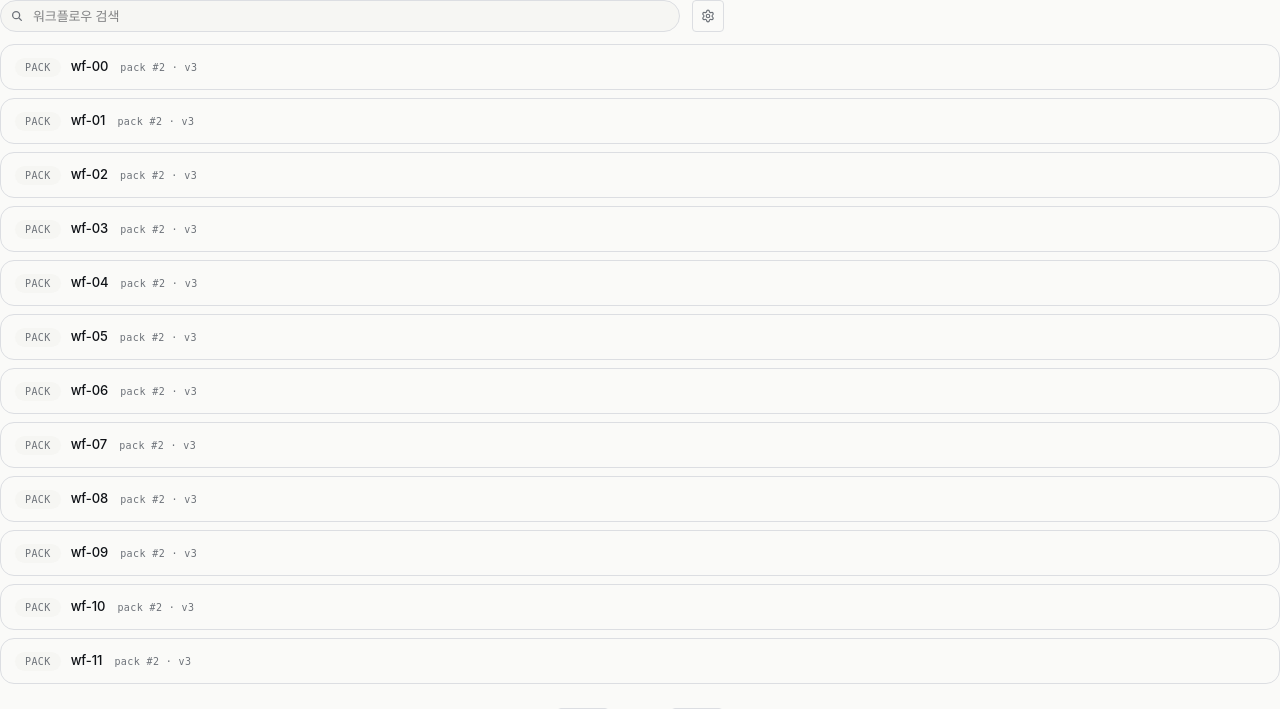
Test: WorkflowListView › page size 6 으로 변경 시 즉시 카드 수와 pagination 갱신
The image size is (1280, 709).
Click the button with test id "wl-settings-toggle".
click(708, 16)  # box [692,0,724,32]
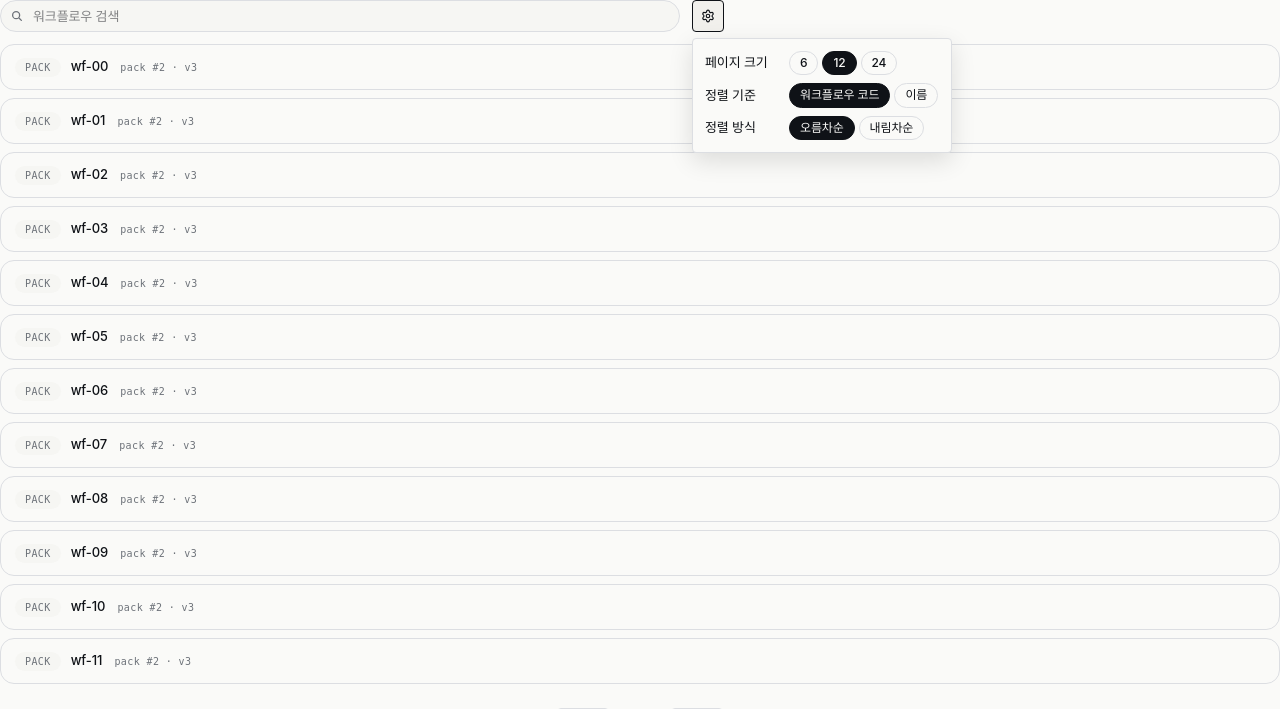
Click the button with test id "wl-settings-pageSize-6".
click(804, 63)  # box [789,51,818,75]
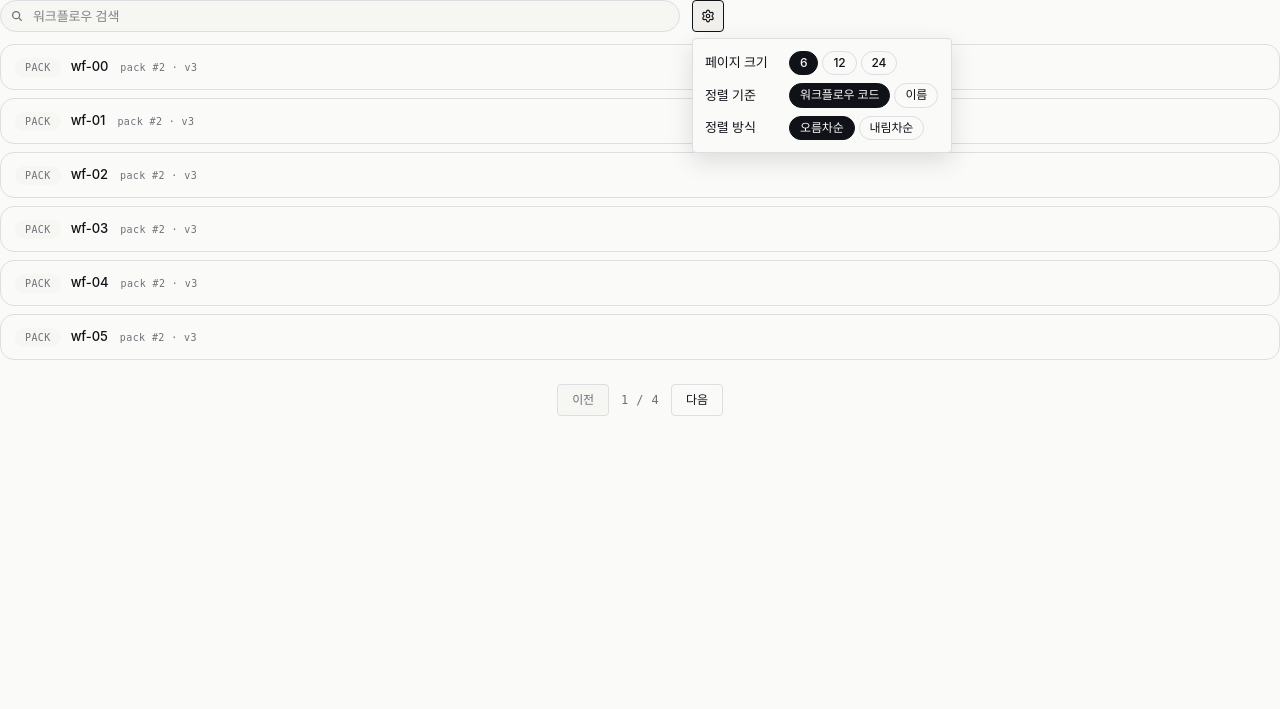
Check: the element with test id "wl-card-6" is shown, box [0,314,1279,360]
Check: the element with test id "wl-card-7" is gone
Check: the text with test id "wl-pagination-info" reads "1 / 4", box [621,391,659,409]
